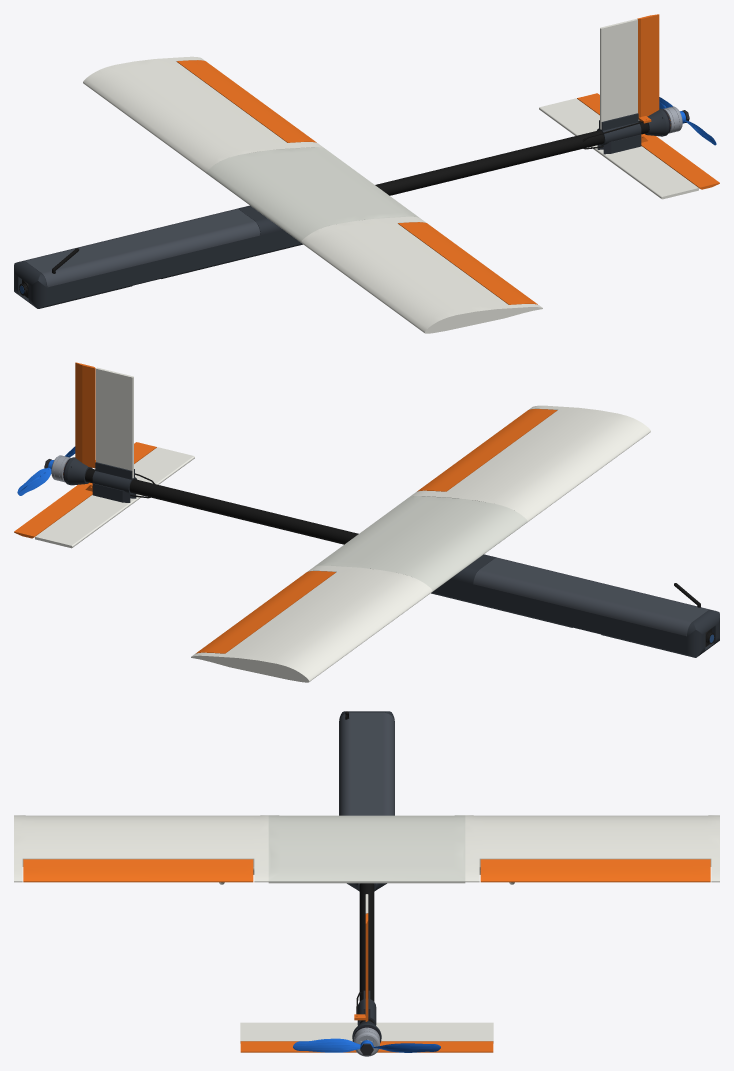
Rendered from airframe.glb.
The picture shows the model from 3 angles, top to bottom: view 1: azimuth 30°, elevation 25°; view 2: azimuth 150°, elevation 25°; view 3: azimuth 270°, elevation 25°; orthographic projection. The views are drawn at different scales.
Visible parts, largest first — view 1: wing_L, wing_R, wing_centre, lid, stab, fuselage_front, fin, boom, fuselage_rear, aileron_R, aileron_L, rudder (+2 smaller); view 2: wing_R, wing_L, wing_centre, lid, stab, fuselage_front, fin, boom, fuselage_rear, aileron_L, aileron_R, rudder (+4 smaller); view 3: wing_centre, wing_R, wing_L, lid, aileron_R, aileron_L, stab, elevator, boom, prop.
Boxes of the visible parts, left/top/right/bottom form: wing_L: left=301, top=216, right=542, bottom=333; wing_R: left=83, top=56, right=323, bottom=172; wing_centre: left=206, top=147, right=418, bottom=242; lid: left=23, top=208, right=260, bottom=287; stab: left=539, top=98, right=698, bottom=199; fuselage_front: left=14, top=255, right=180, bottom=308; fin: left=600, top=19, right=637, bottom=129; boom: left=375, top=120, right=648, bottom=195; fuselage_rear: left=180, top=205, right=302, bottom=274; aileron_R: left=176, top=60, right=316, bottom=142; aileron_L: left=398, top=222, right=537, bottom=304; rudder: left=637, top=14, right=659, bottom=123; wing_R: left=191, top=565, right=432, bottom=682; wing_L: left=410, top=405, right=650, bottom=521; wing_centre: left=315, top=496, right=527, bottom=591; lid: left=473, top=557, right=709, bottom=636; stab: left=35, top=447, right=194, bottom=548; fuselage_front: left=553, top=603, right=719, bottom=657; fin: left=96, top=367, right=133, bottom=478; boom: left=85, top=468, right=358, bottom=544; fuselage_rear: left=431, top=554, right=553, bottom=623; aileron_L: left=417, top=409, right=557, bottom=491; aileron_R: left=196, top=571, right=335, bottom=653; rudder: left=75, top=362, right=95, bottom=468; wing_centre: left=268, top=815, right=465, bottom=883; wing_R: left=465, top=815, right=719, bottom=882; wing_L: left=14, top=815, right=268, bottom=882; lid: left=339, top=712, right=394, bottom=815; aileron_R: left=480, top=859, right=710, bottom=882; aileron_L: left=23, top=859, right=253, bottom=882; stab: left=240, top=1022, right=493, bottom=1043; elevator: left=240, top=1041, right=493, bottom=1052; boom: left=359, top=883, right=374, bottom=1023; prop: left=293, top=1038, right=440, bottom=1052.
Bounding box in the file's own units: 0.5446 × 0.1033 × 0.485.
